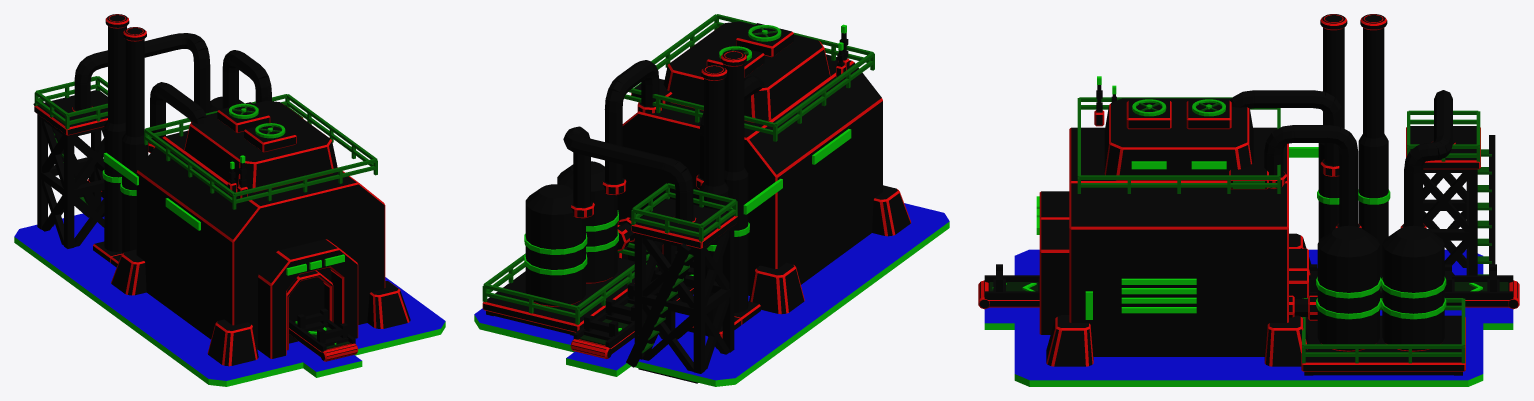
The model's file is SM_Holo_Refinery_T3.fbx.
3 renders of one model, left to right at view 1: azimuth 30°, elevation 25°; view 2: azimuth 150°, elevation 25°; view 3: azimuth 270°, elevation 25°, orthographic. The views are drawn at different scales.
Parts seen in each view (by area): view 1: SM_Holo_Refinery_T3; view 2: SM_Holo_Refinery_T3; view 3: SM_Holo_Refinery_T3.
Boxes of the visible parts, <box> form: SM_Holo_Refinery_T3: <box>14,14,445,386</box>; SM_Holo_Refinery_T3: <box>474,14,949,386</box>; SM_Holo_Refinery_T3: <box>978,14,1519,386</box>.
Bounding box in the file's own units: 12.4 × 12.18 × 21.72.
